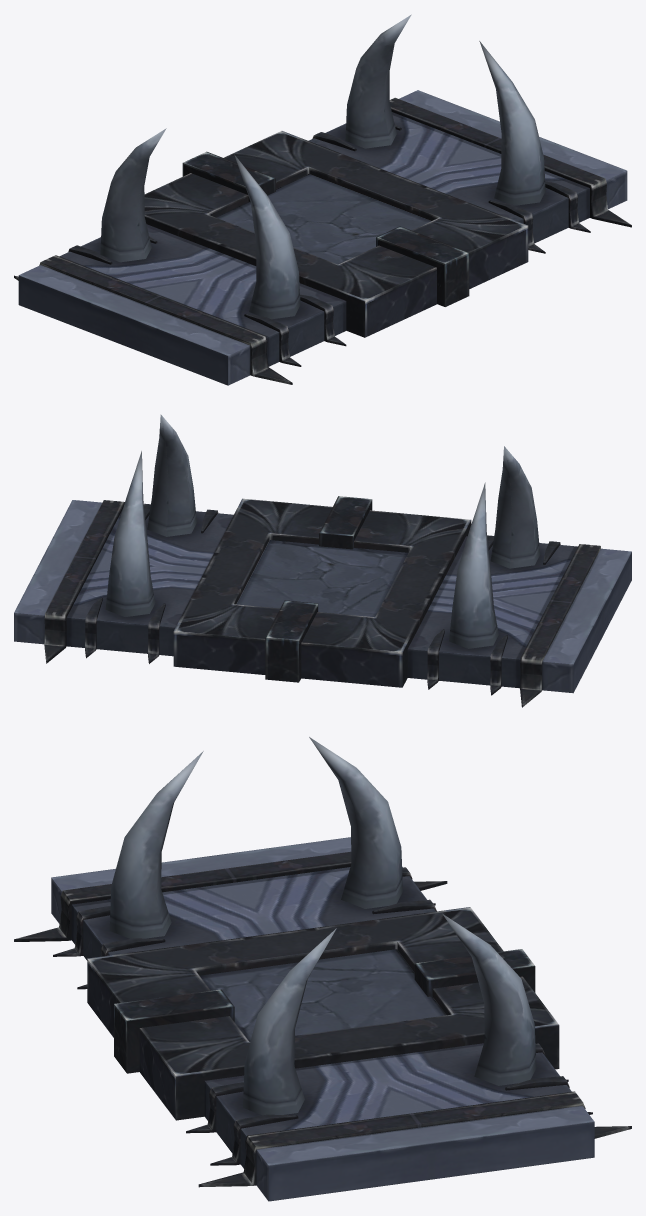
The model's file is Beidaying_shitaizi.FBX.
3 renders of one model, top to bottom at view 1: azimuth 30°, elevation 25°; view 2: azimuth 150°, elevation 25°; view 3: azimuth 270°, elevation 25°, orthographic. The views are drawn at different scales.
Visible parts, largest first — view 1: Beidaying_shitaizi; view 2: Beidaying_shitaizi; view 3: Beidaying_shitaizi.
Boxes of the visible parts, x1,y1,x2,y2 form: Beidaying_shitaizi: (14,14,631,385); Beidaying_shitaizi: (14,414,631,707); Beidaying_shitaizi: (14,737,631,1201).
Bounding box in the file's own units: 213 × 168 × 61.01.
